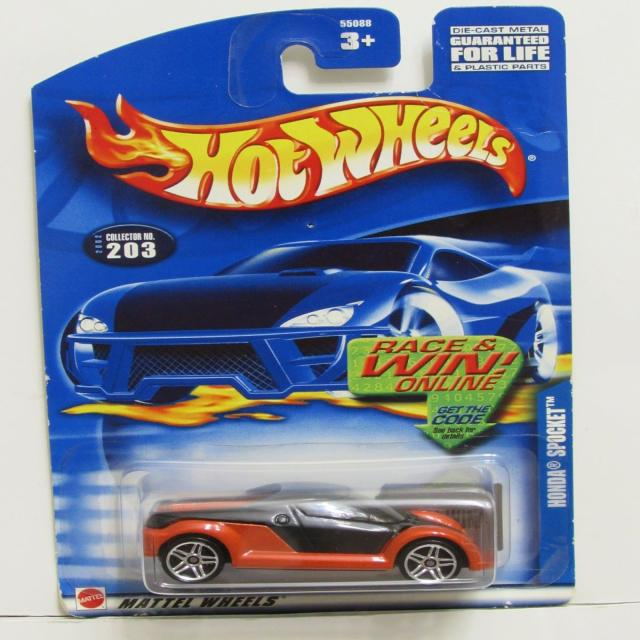Car: (143, 500, 494, 592)
